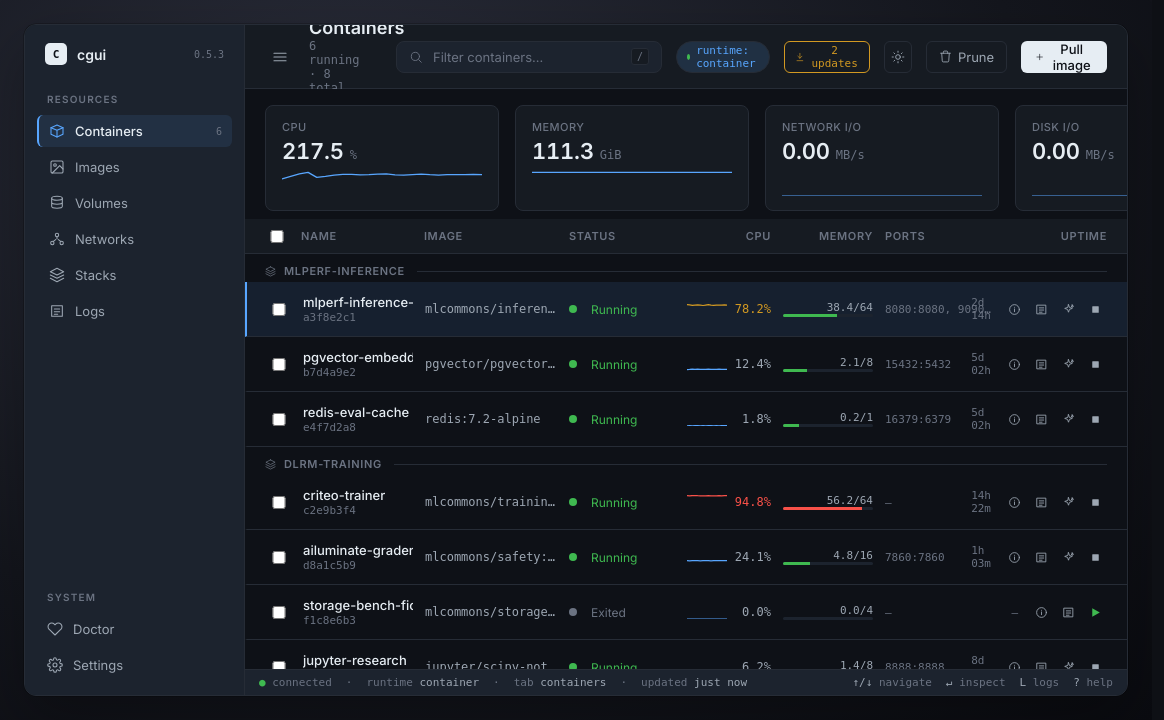
Scenario: App integration › Pull image button opens the pull modal in idle state
Expected: the text "mlperf-inference-llama2" is shown, [303,294,413,310]
Click the button "Pull image".
click(1064, 56)  # box [1021,40,1107,72]
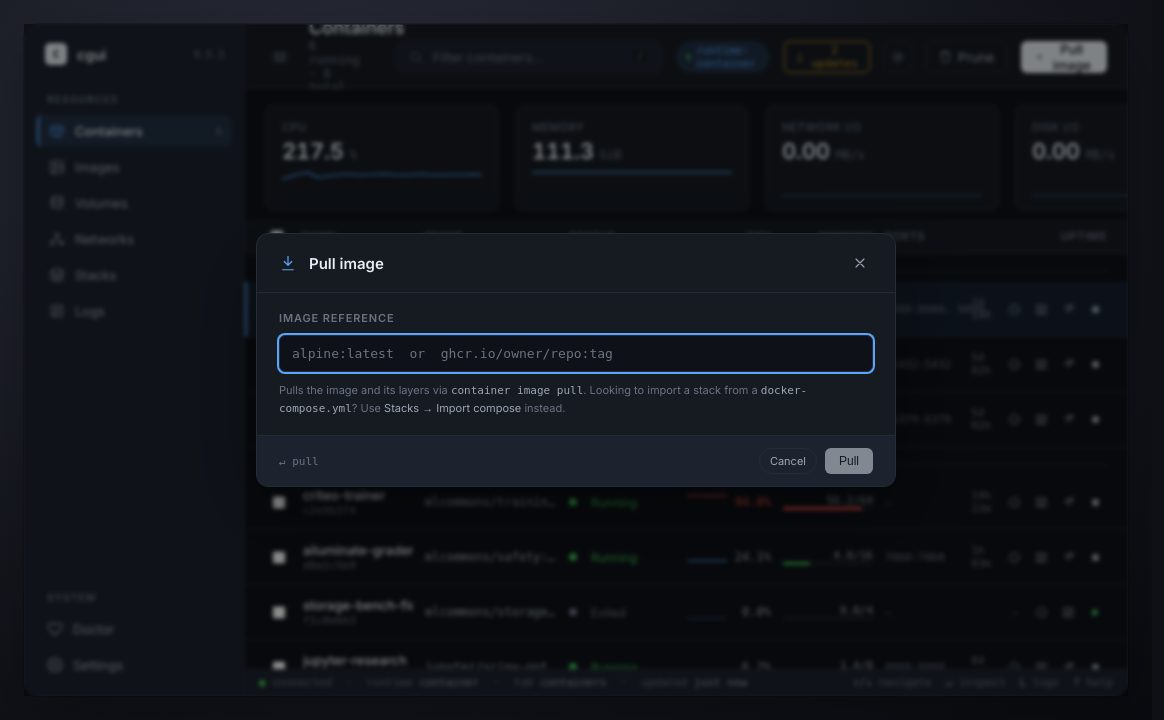
Expected: the field with placeholder "alpine:latest or ghcr.io/owner/repo:tag" is shown, [279,335,873,372]
Expected: the button "Pull" is disabled, [825,448,873,474]
